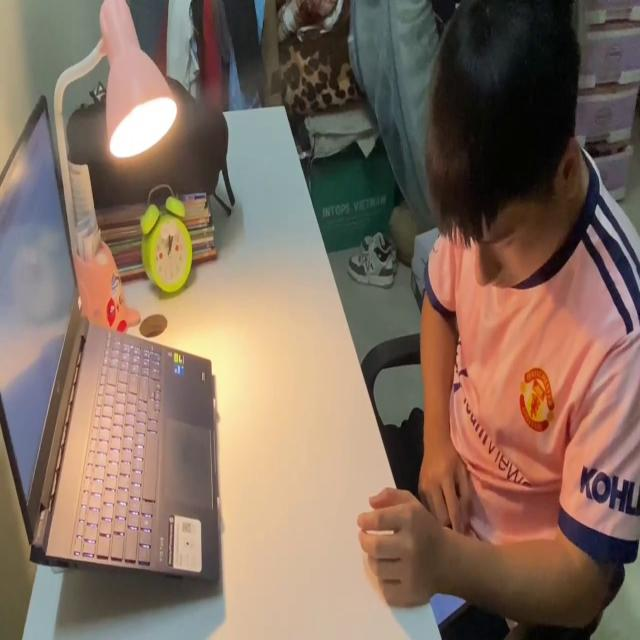laptop: (1, 85, 225, 594)
phone: (431, 592, 472, 628)
student: (356, 0, 640, 640)
